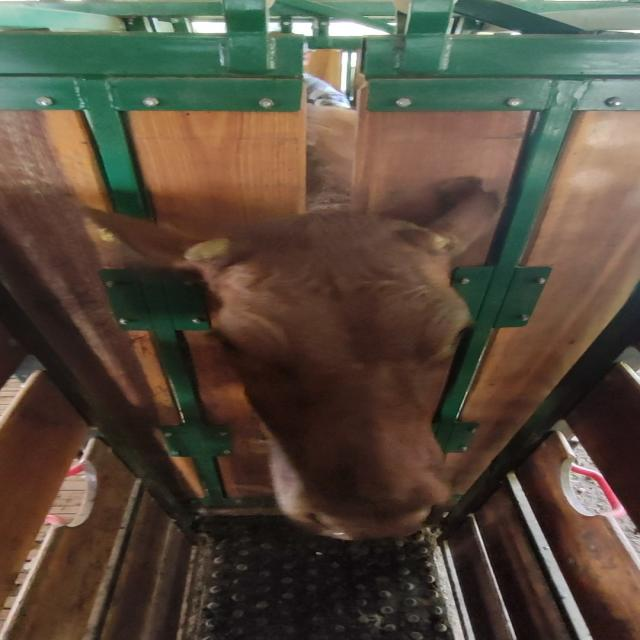cowFace: (216, 219, 471, 543)
